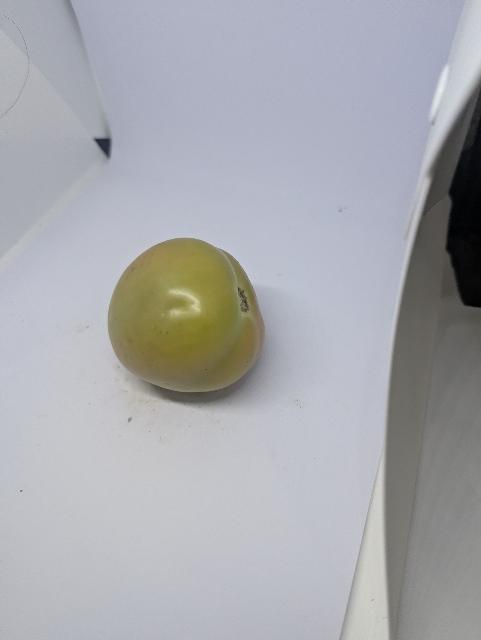breaker: (108, 238, 265, 392)
